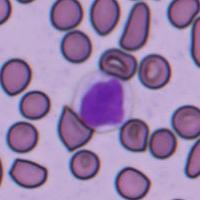L: (71, 70, 128, 132)
